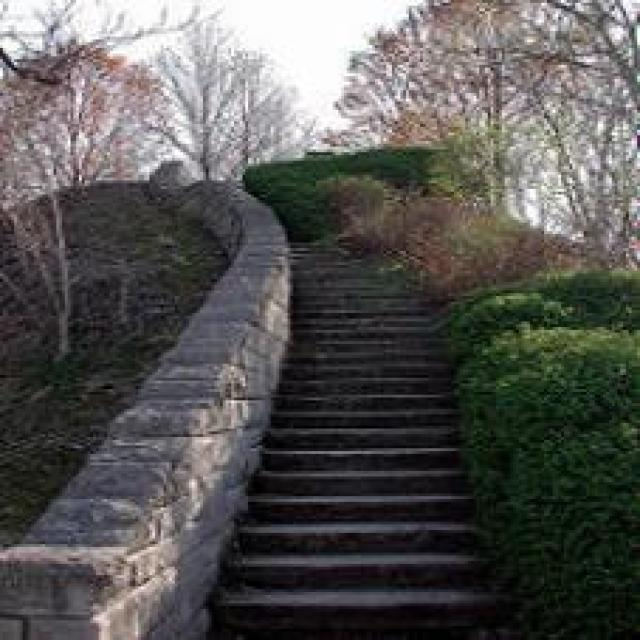upstair: (241, 399, 469, 607)
